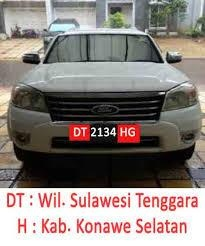plate: (71, 124, 140, 146)
